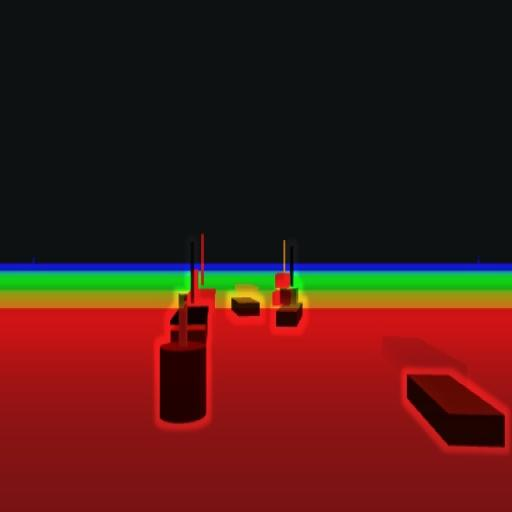fishing_boat: (274, 246, 306, 328)
